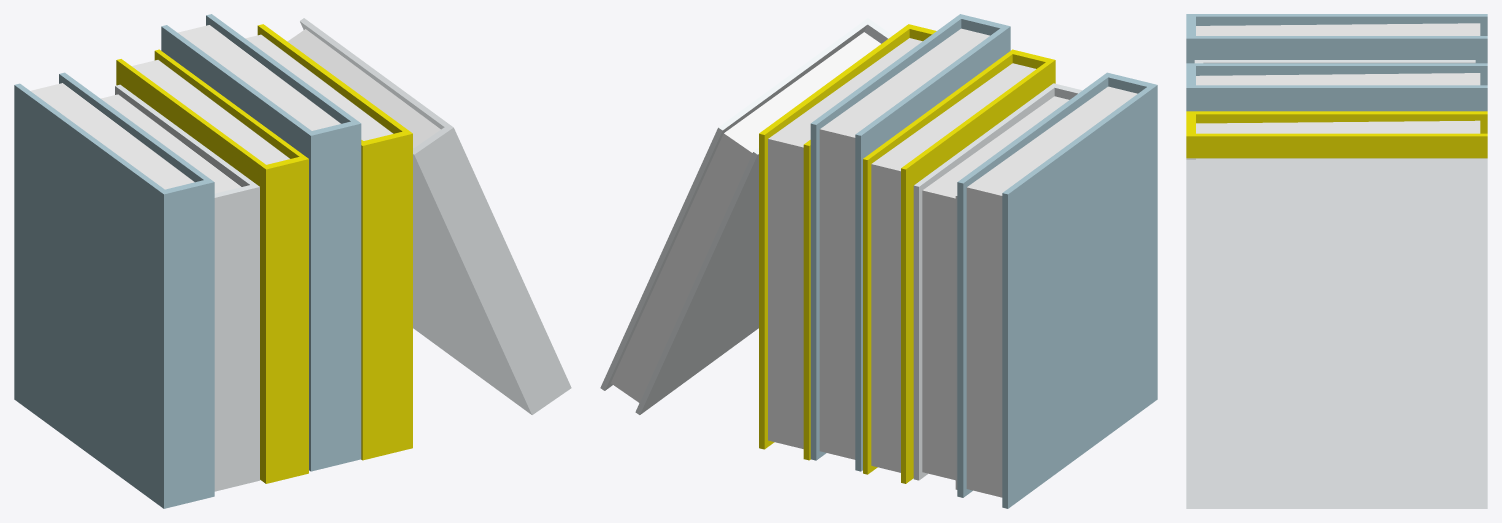
File: Books.fbx
3 views of the same model, side by side, from view 1: azimuth 30°, elevation 25°; view 2: azimuth 150°, elevation 25°; view 3: azimuth 270°, elevation 25° (orthographic).
Parts seen in each view (by area): view 1: Books; view 2: Books; view 3: Books.
Part boxes in pixels (bbox=[...]): Books: bbox=[14, 14, 571, 508]; Books: bbox=[600, 14, 1157, 508]; Books: bbox=[1186, 14, 1487, 508].
Bounding box in the file's own units: 0.3943 × 0.3116 × 0.2507.
